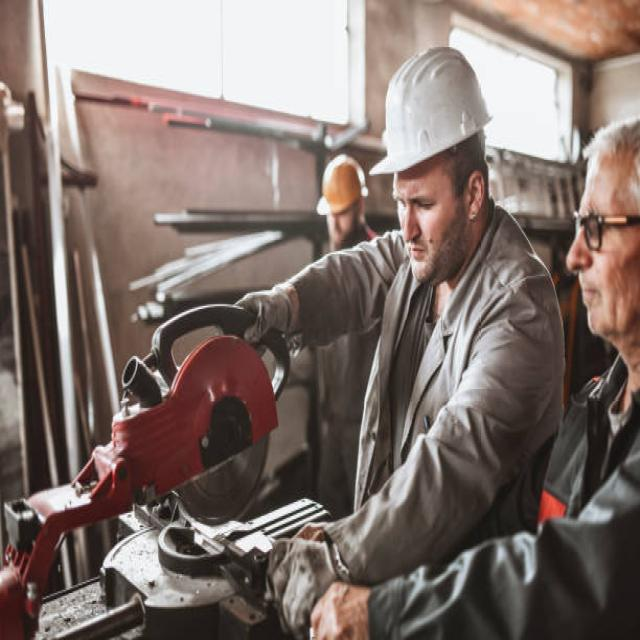Gloves: (263, 534, 347, 636), (231, 282, 301, 350)
helmet: (367, 44, 497, 180), (315, 155, 370, 217)
person: (231, 42, 561, 640), (511, 116, 640, 639), (306, 153, 374, 521)
